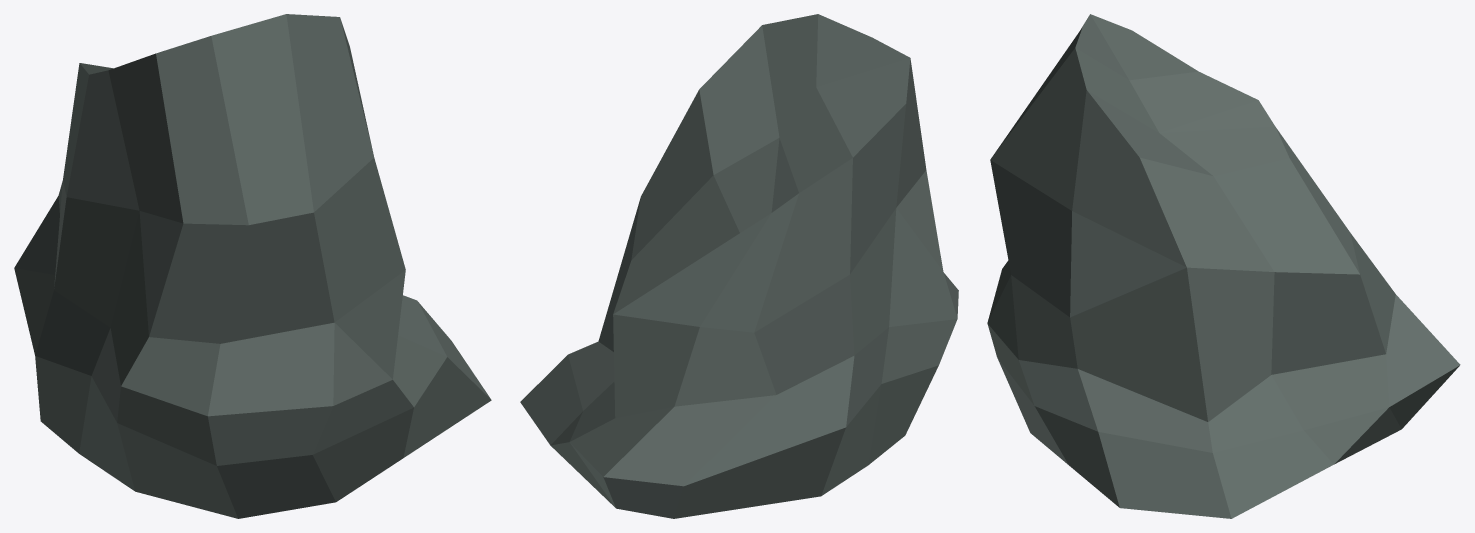
The model's file is SM_Rock_E.glb.
The picture shows the model from 3 angles, left to right: view 1: azimuth 30°, elevation 25°; view 2: azimuth 150°, elevation 25°; view 3: azimuth 270°, elevation 25°; orthographic projection. The views are drawn at different scales.
Visible parts, largest first — view 1: SM_Rock_E; view 2: SM_Rock_E; view 3: SM_Rock_E.
Boxes of the visible parts, box(x1,y1,x2,y2) form: SM_Rock_E: box(14, 14, 491, 518); SM_Rock_E: box(520, 14, 958, 518); SM_Rock_E: box(987, 14, 1460, 518).
Bounding box in the file's own units: 1.74 × 1.84 × 2.08.
Materials: 1 (1 with a texture image).
